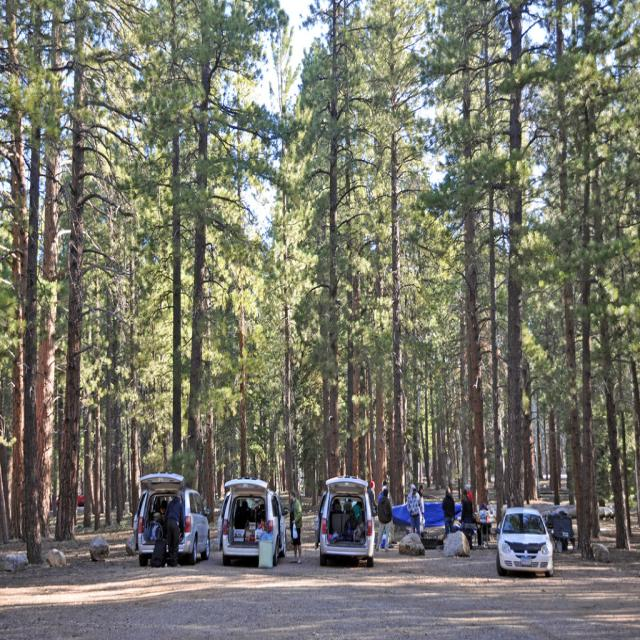car: (136, 466, 209, 563), (216, 476, 290, 570), (316, 471, 374, 566), (496, 509, 561, 584)
